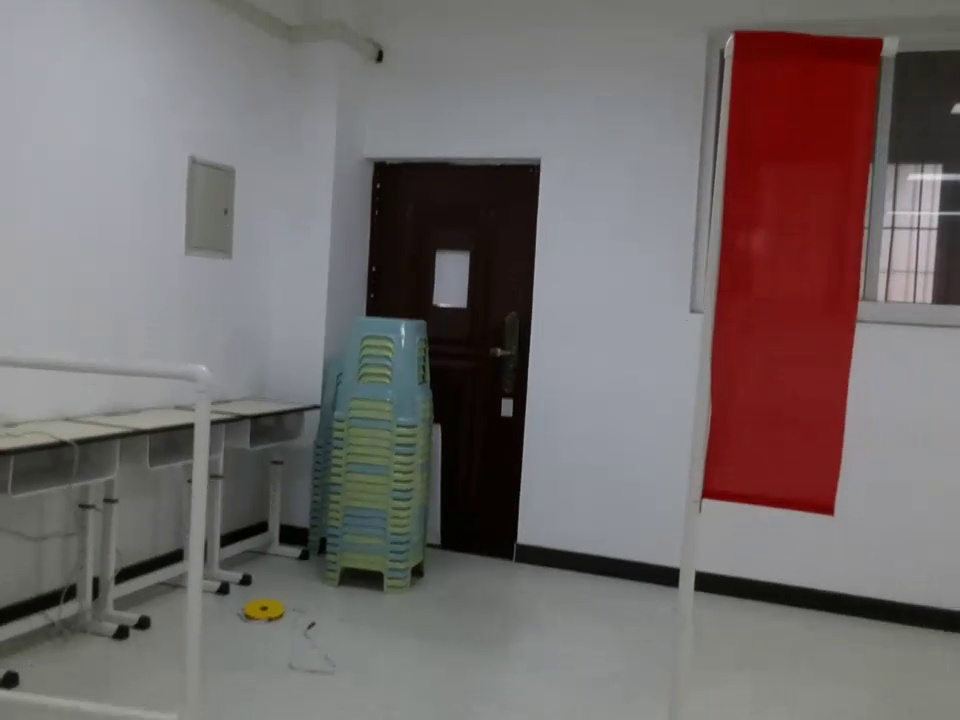qi: (699, 27, 901, 536)
